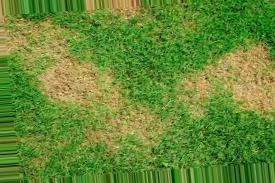patch: (231, 50, 272, 105), (50, 65, 97, 101), (18, 25, 65, 58), (111, 105, 155, 138), (179, 78, 210, 115), (108, 8, 149, 25), (35, 70, 48, 94), (211, 58, 226, 77)
